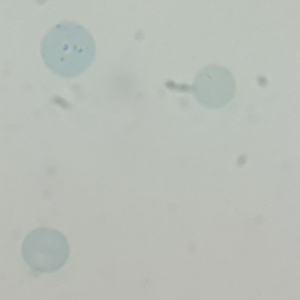erythrocyte: (20, 226, 71, 275), (191, 63, 238, 110)
punctate reticulocyte: (39, 21, 99, 79)
